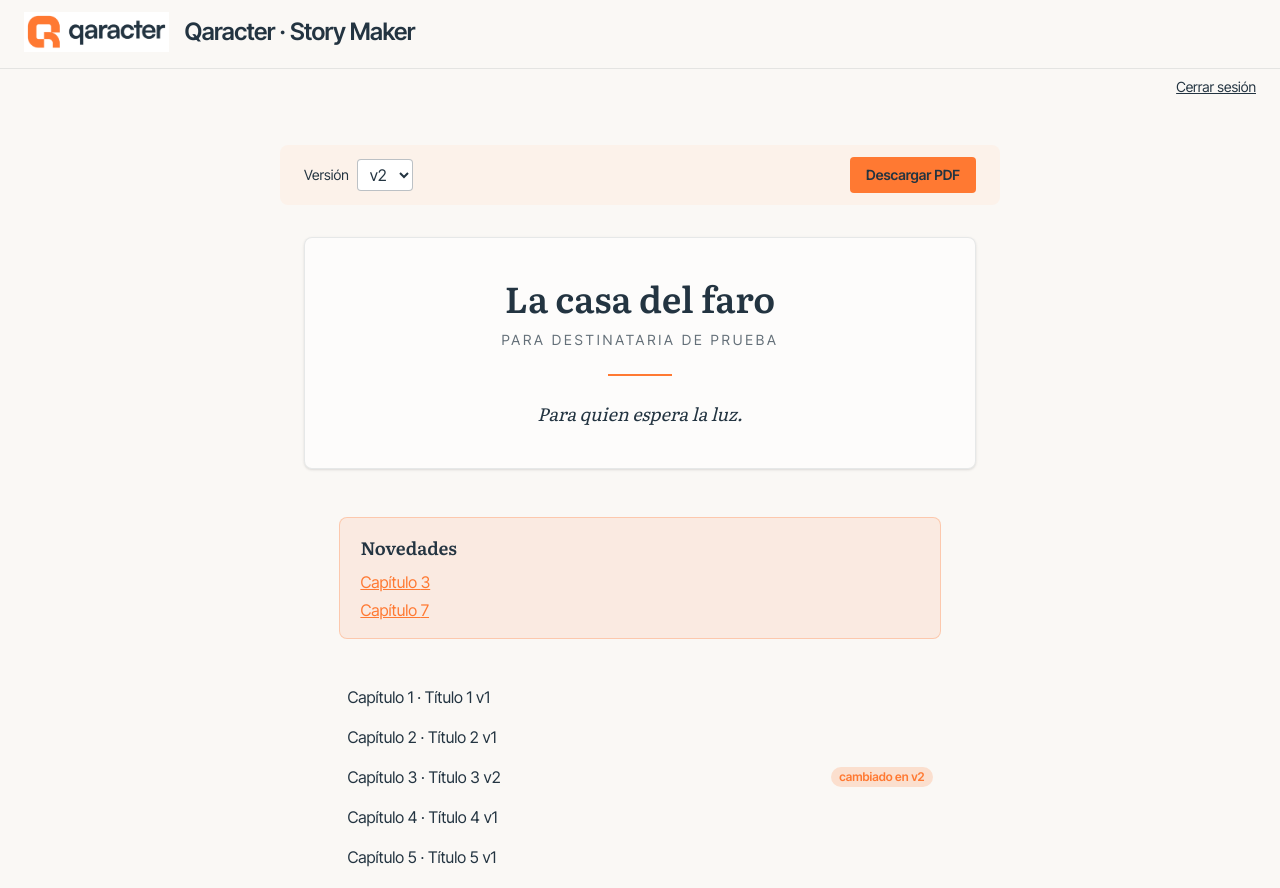
Scenario: 026 lectura › 026-C09: switching version reloads all the content with the chosen version's
Expected: the element "Novedades" is shown, x1=339 y1=517 x2=941 y2=639
Step 1. Select "v1" in the dropdown labelled "Versión" → (385, 175), box x1=357 y1=159 x2=413 y2=191
(page scrolled)
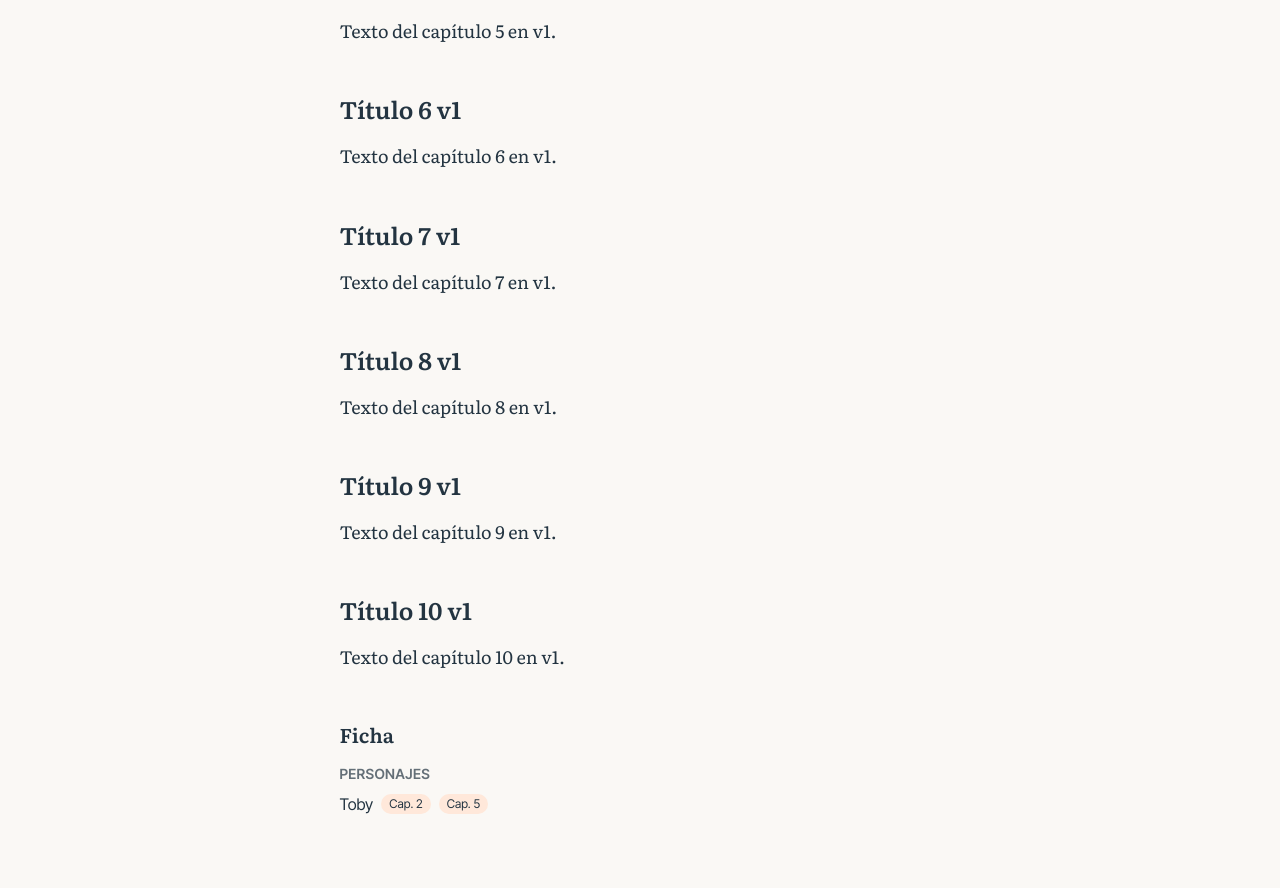
Expected: the text "Toby" is shown, x1=339 y1=792 x2=373 y2=816
Expected: the heading "Novedades" is gone
Expected: the link "cambiado en v" is gone
